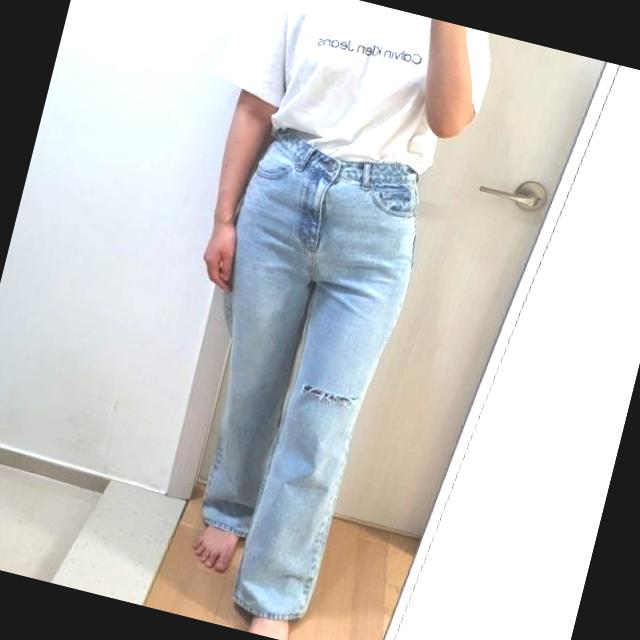denimpants: (146, 117, 435, 630)
shortsleeve: (195, 0, 497, 190)
